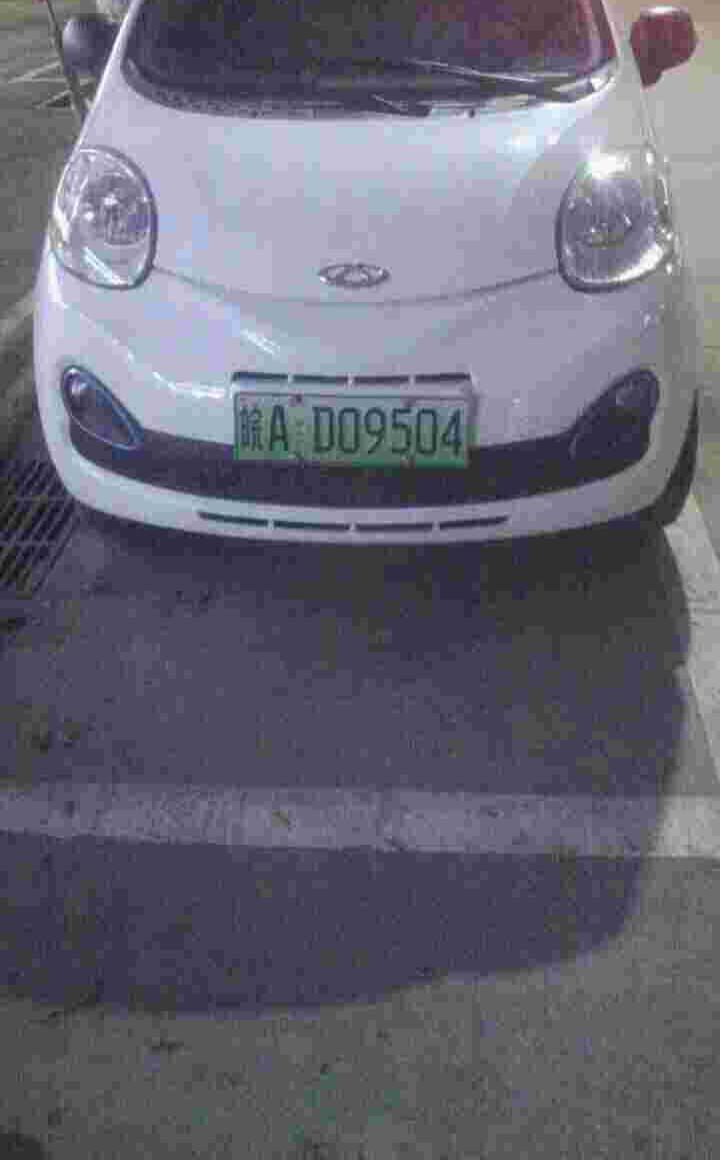car: (223, 390, 486, 472)
